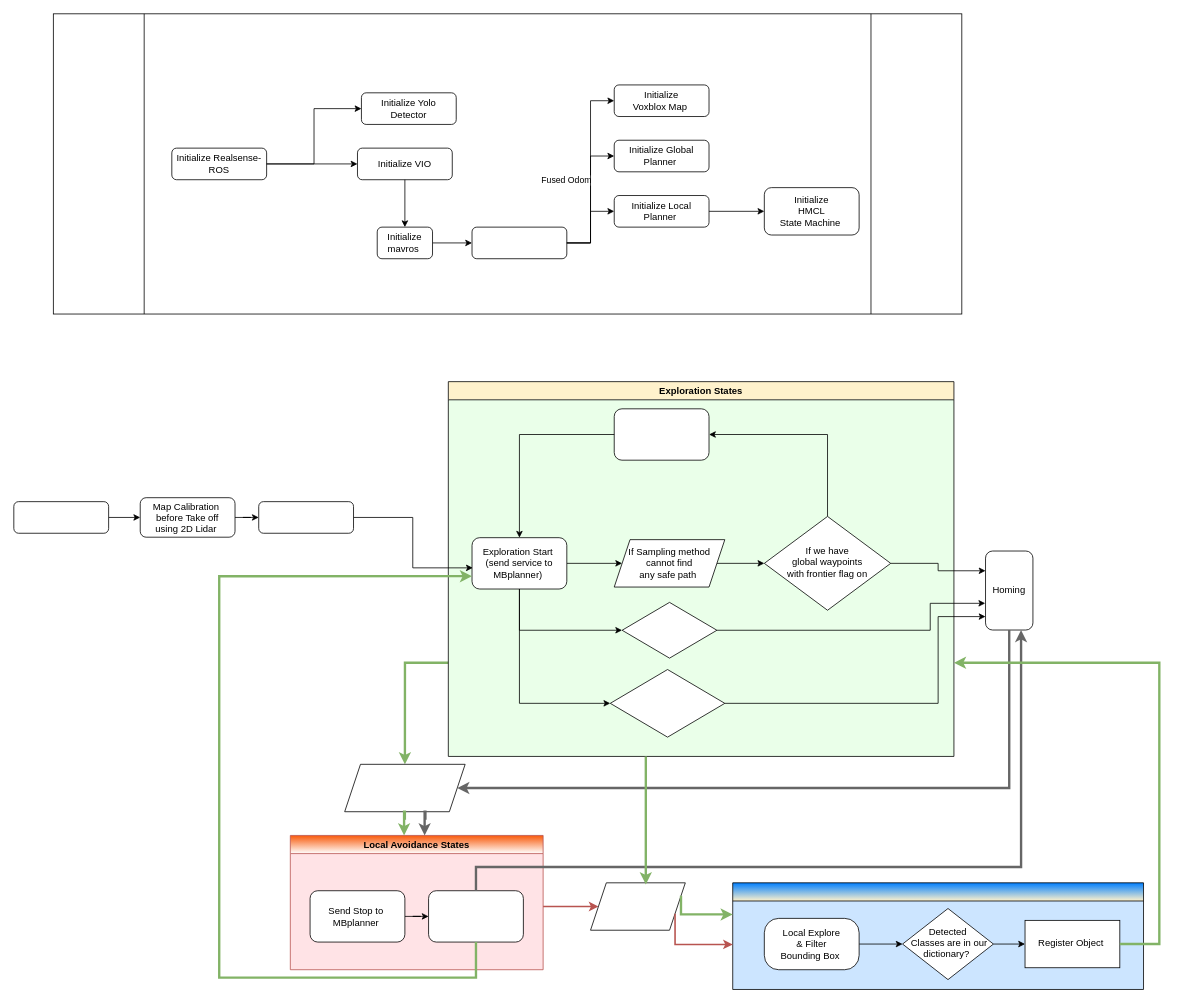
The diagram is 1180 pixels wide and 1003 high, and some of its shapes have lost their labels. The box of each missing label's shape, as (x1, y1, x2, y2) in pixels:
Activate Local avoidance Maneuver: (428, 890, 523, 942)
Go to way points using Global Planner: (613, 408, 709, 460)
If Bounding box is detected: (590, 882, 685, 930)
If Global map is explored enough: (609, 669, 725, 737)
If local avoidance activated (based on Lidar): (344, 764, 465, 812)
If time out reached: (621, 602, 717, 658)
Initialize Mapping: (13, 501, 109, 533)
Initialize offboard: (471, 226, 567, 259)
Object Detection States: (732, 882, 1144, 989)
Take off: (258, 501, 354, 533)
